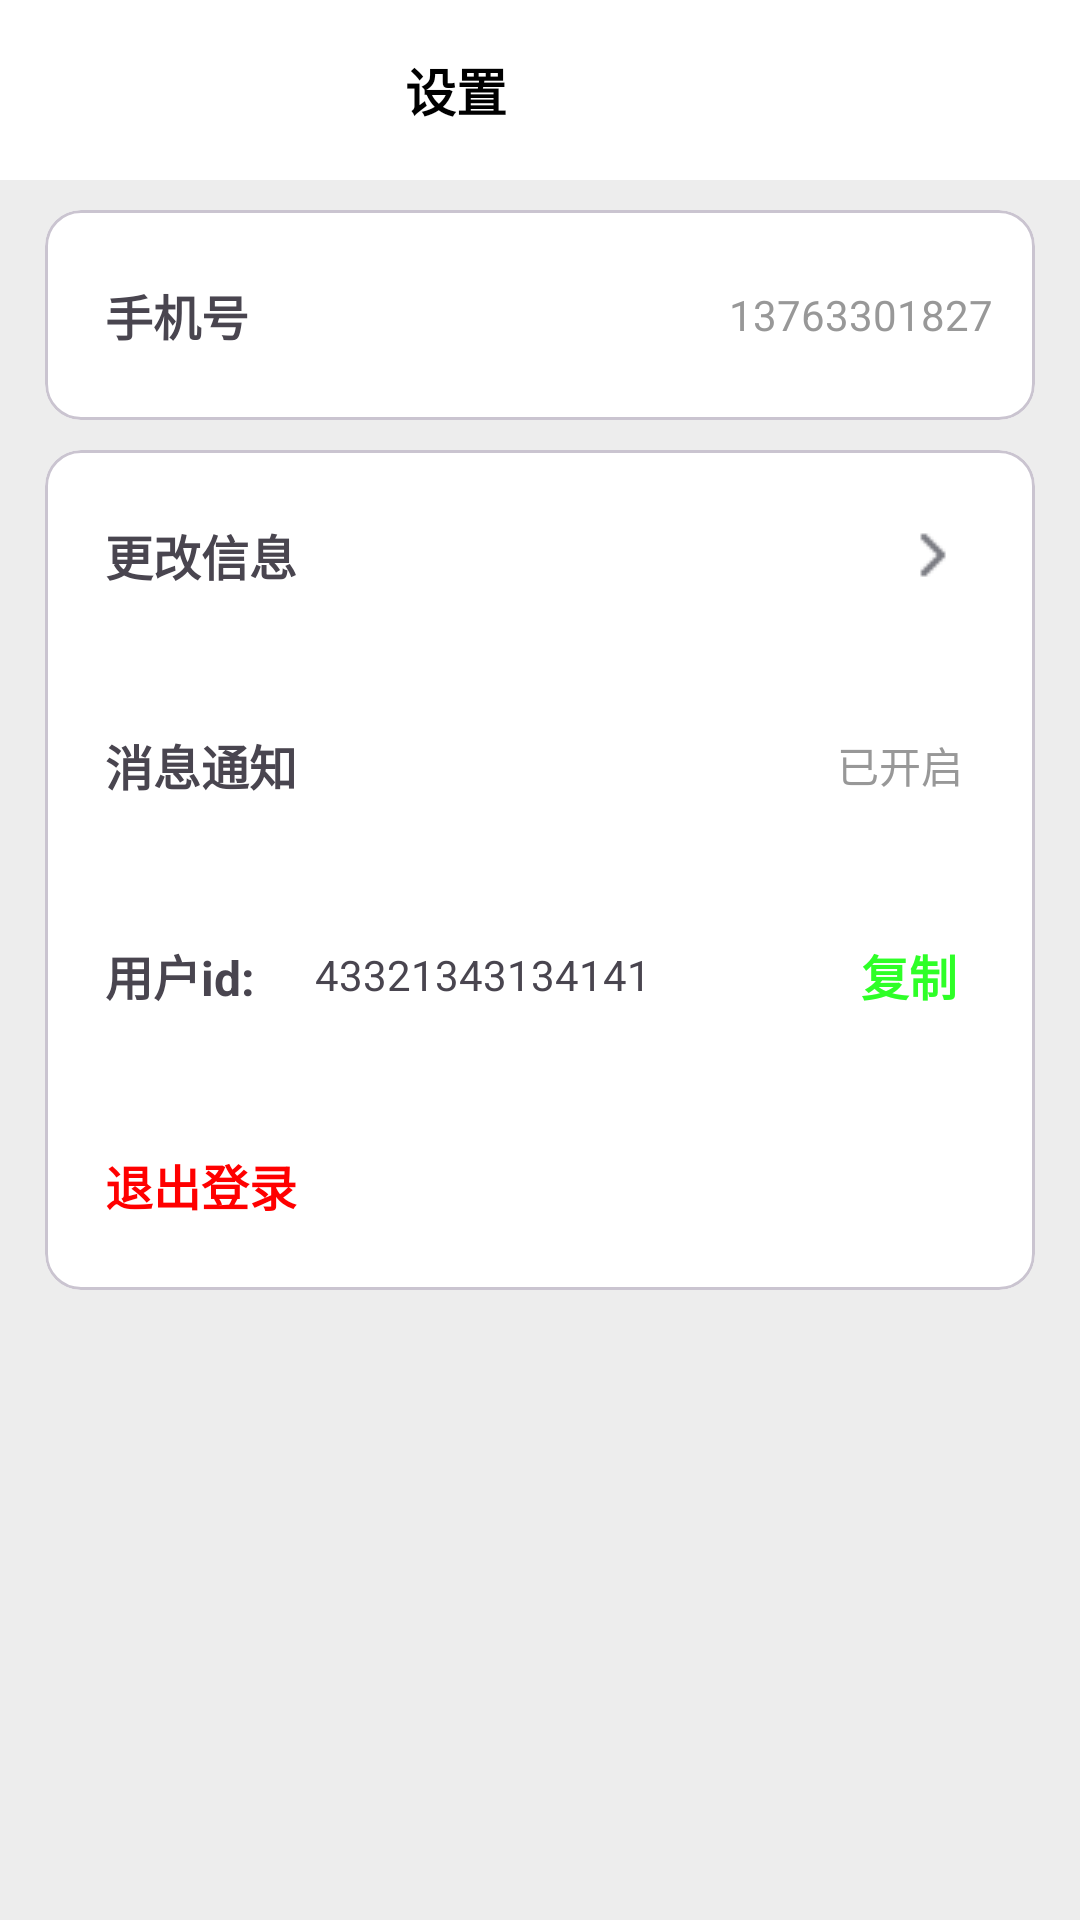

Locate icon controls on the screen. Image size 1080*1920, boxes as (x1, y1, x2, y2).
chevronright: (920, 533, 946, 577)
